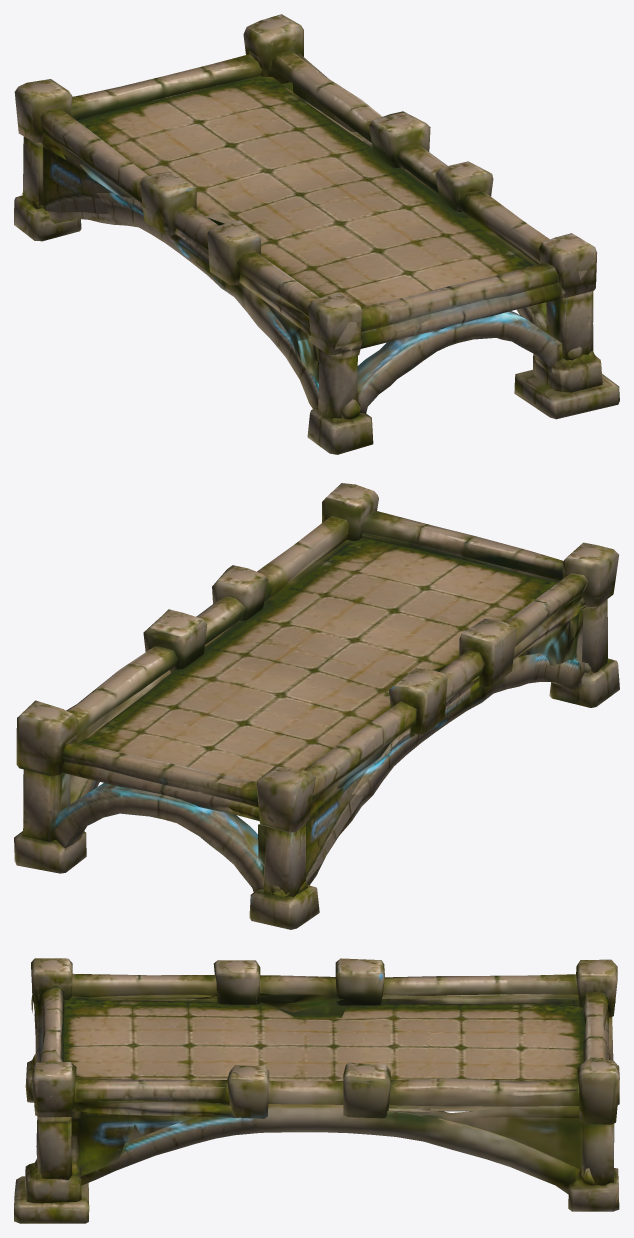
Rendered from puente_runico.glb.
The picture shows the model from 3 angles, top to bottom: view 1: azimuth 30°, elevation 25°; view 2: azimuth 150°, elevation 25°; view 3: azimuth 270°, elevation 25°; orthographic projection. The views are drawn at different scales.
Visible parts, largest first — view 1: pz2; view 2: pz2; view 3: pz2.
Boxes of the visible parts, x1,y1,x2,y2 form: pz2: (14, 14, 619, 454); pz2: (14, 483, 619, 929); pz2: (14, 958, 619, 1223).
Size of the model in its own units: 0.1488 by 0.0776 by 0.2953.
1 material, 1 textured.
